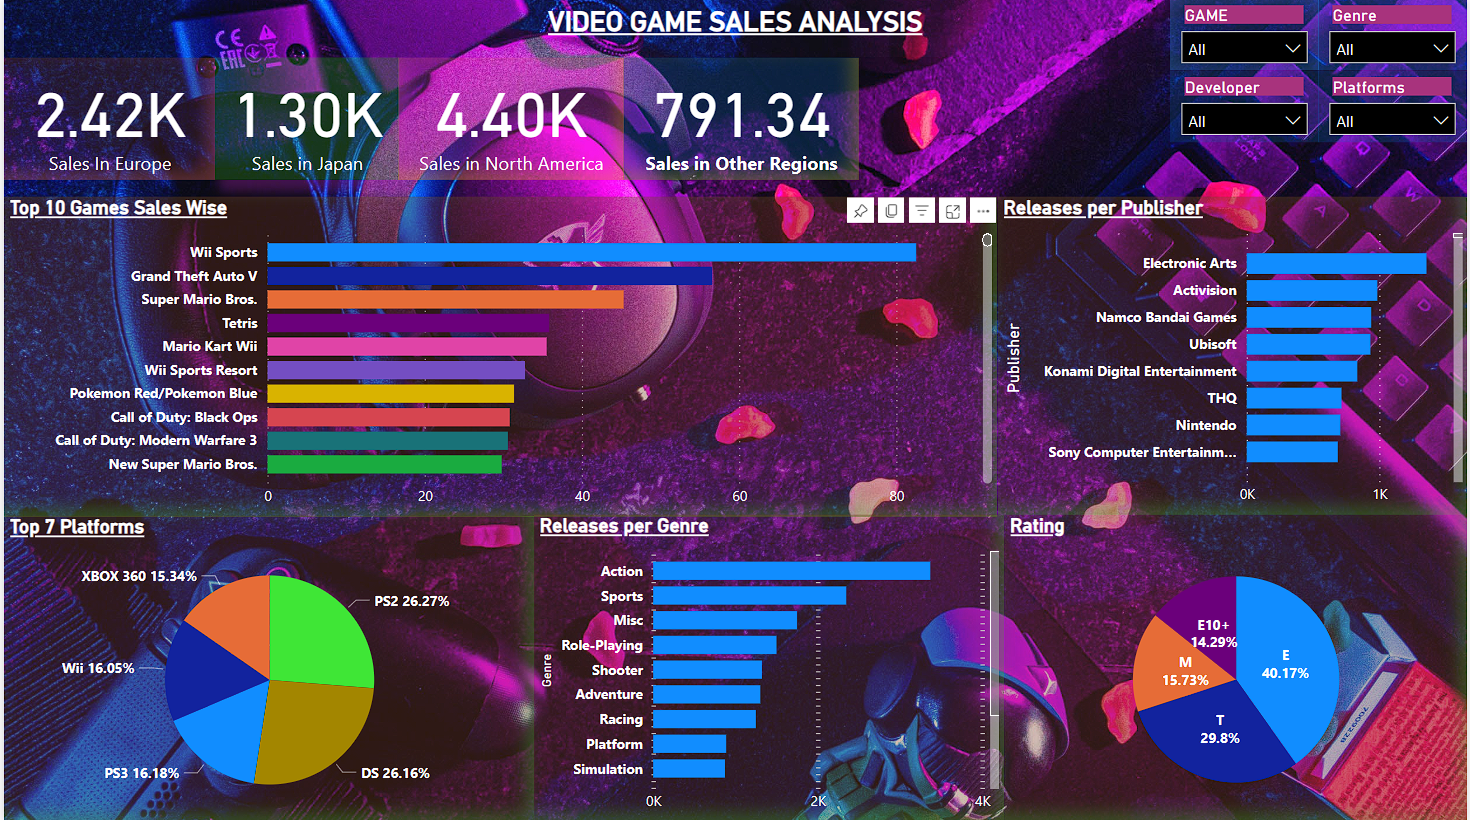

The page's visual inventory and layout, read from the dashboard file:
{"tool":"powerbi","page":{"name":"Page 1","canvas":[1280,720],"ordinal":0},"visuals":[{"type":"textbox","box":[426.3,0,427.3,50.6],"z":0},{"type":"barChart","title":"Top 10 Games Sales Wise","fields":{"Series":["Video_Games.Name"],"Category":["Video_Games.Name"],"Y":["Sum(Video_Games.Global_Sales)"]},"box":[0,172.4,868.6,279.4],"z":1000},{"type":"pieChart","title":"Top 7 Platforms","fields":{"Category":["Video_Games.Top 7 Platforms"],"Y":["CountNonNull(Video_Games.Top 7 Platforms)"]},"box":[0,452.1,463.8,267.3],"z":2000},{"type":"barChart","title":"Releases per Publisher","fields":{"Category":["Video_Games.Publisher"],"Y":["CountNonNull(Video_Games.Publisher)"]},"box":[868.6,172.4,411.2,278.3],"z":3000},{"type":"barChart","title":"Releases per Genre","fields":{"Category":["Video_Games.Genre"],"Y":["CountNonNull(Video_Games.Genre)"]},"box":[463.8,451,411.5,268.5],"z":4000},{"type":"card","fields":{"Values":["Sum(Video_Games.EU_Sales)"]},"box":[0,50.7,184.8,107],"z":5000},{"type":"card","fields":{"Values":["Sum(Video_Games.JP_Sales)"]},"box":[184.8,50.7,161.1,107],"z":6000},{"type":"card","fields":{"Values":["Sum(Video_Games.NA_Sales)"]},"box":[344.7,50.7,197.2,107],"z":7000},{"type":"card","fields":{"Values":["Sum(Video_Games.Other_Sales)"]},"box":[541.6,51.1,205.7,106.9],"z":8000},{"type":"slicer","fields":{"Values":["Video_Games.Genre"]},"box":[1149.5,0,130.2,62.8],"z":9000},{"type":"slicer","fields":{"Values":["Video_Games.Top 7 Platforms"]},"box":[1149.5,62.8,130.2,62.8],"z":10000},{"type":"pieChart","title":"Rating","fields":{"Category":["Video_Games.Rating"],"Y":["CountNonNull(Video_Games.Rating)"]},"box":[875.2,451,404.5,268.5],"z":11000},{"type":"slicer","fields":{"Values":["Video_Games.Name"]},"box":[1019.3,0,130.2,62.8],"z":12000},{"type":"slicer","fields":{"Values":["Video_Games.Developer"]},"box":[1019.3,62.8,130.2,62.8],"z":13000}]}

Visuals, with their boxes in screenshot pixels (x1, y1, x2, y2), scaled from the page's 1280x720 canvas onto the 1470x820 screenshot:
textbox: (x1=490, y1=0, x2=980, y2=58)
"Top 10 Games Sales Wise" barChart: (x1=0, y1=196, x2=998, y2=515)
"Top 7 Platforms" pieChart: (x1=0, y1=515, x2=533, y2=819)
"Releases per Publisher" barChart: (x1=998, y1=196, x2=1469, y2=513)
"Releases per Genre" barChart: (x1=533, y1=514, x2=1005, y2=819)
card - Sum(Video_Games.EU_Sales): (x1=0, y1=58, x2=212, y2=180)
card - Sum(Video_Games.JP_Sales): (x1=212, y1=58, x2=397, y2=180)
card - Sum(Video_Games.NA_Sales): (x1=396, y1=58, x2=622, y2=180)
card - Sum(Video_Games.Other_Sales): (x1=622, y1=58, x2=858, y2=180)
slicer - Video_Games.Genre: (x1=1320, y1=0, x2=1469, y2=72)
slicer - Video_Games.Top 7 Platforms: (x1=1320, y1=72, x2=1469, y2=143)
"Rating" pieChart: (x1=1005, y1=514, x2=1469, y2=819)
slicer - Video_Games.Name: (x1=1171, y1=0, x2=1320, y2=72)
slicer - Video_Games.Developer: (x1=1171, y1=72, x2=1320, y2=143)
